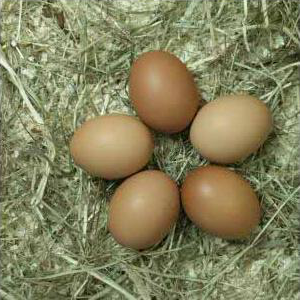egg: (179, 166, 262, 239), (107, 170, 180, 251), (129, 51, 200, 134), (189, 95, 272, 166), (69, 114, 154, 179)
